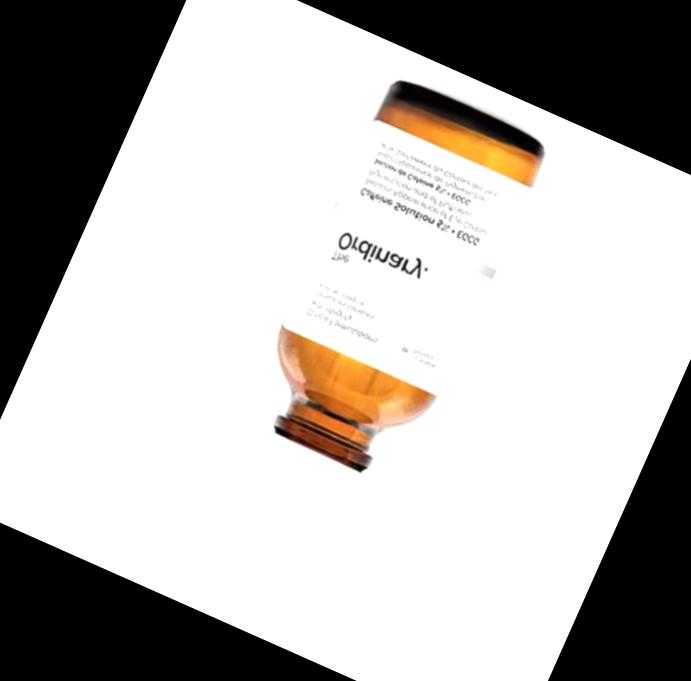cosmetic: (169, 74, 552, 641)
